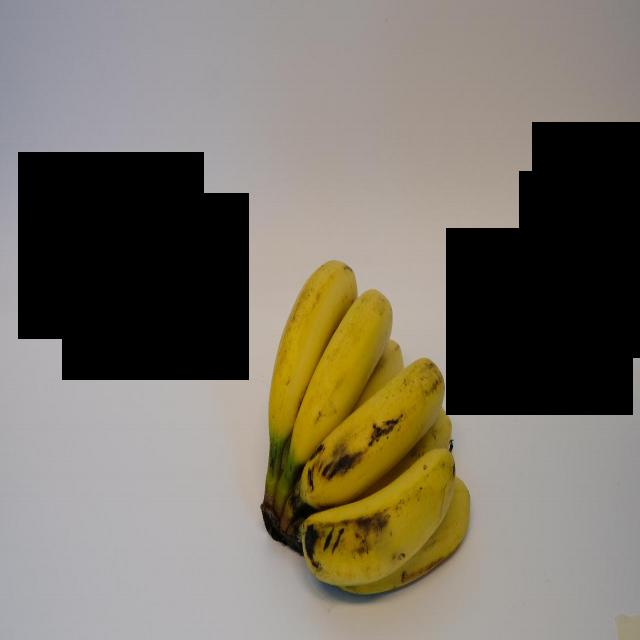banana: (296, 348, 446, 506), (301, 446, 456, 590), (290, 279, 392, 471), (264, 253, 358, 447)
